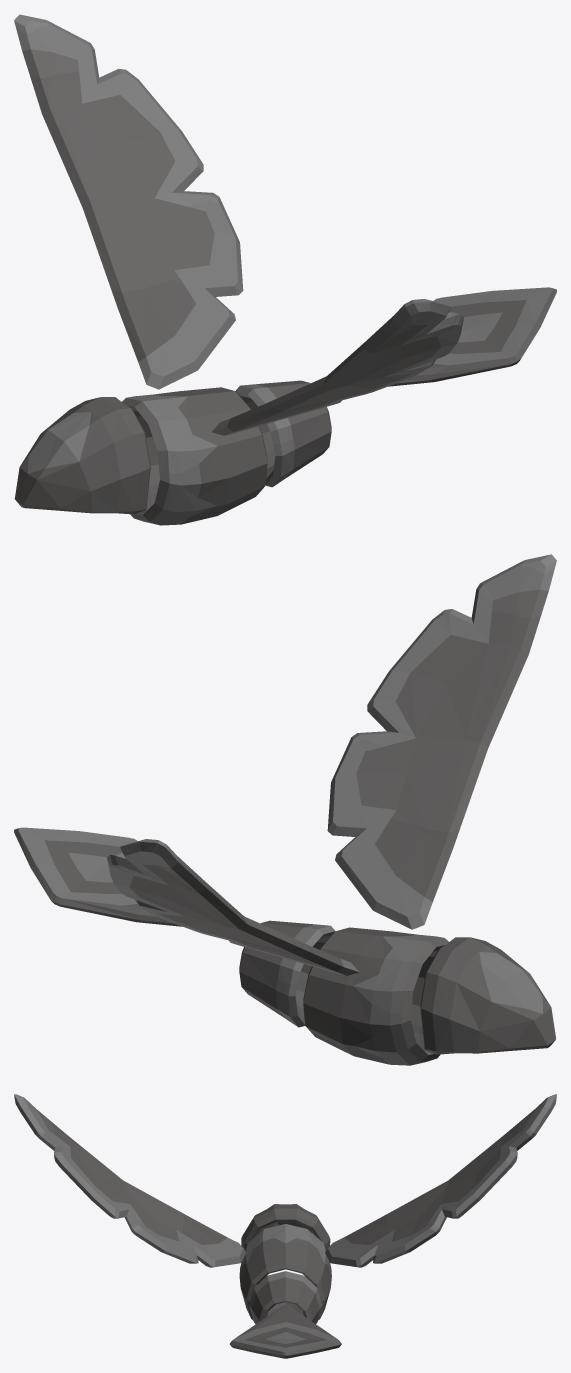
File: CharSkyKid_Prop_ColorKiteBird.glb
3 renders of one model, top to bottom at view 1: azimuth 30°, elevation 25°; view 2: azimuth 150°, elevation 25°; view 3: azimuth 270°, elevation 25°, orthographic. The views are drawn at different scales.
Visible parts, largest first — view 1: CharSkyKid_Prop_ColorKiteBird; view 2: CharSkyKid_Prop_ColorKiteBird; view 3: CharSkyKid_Prop_ColorKiteBird.
Boxes of the visible parts, x1=… form: CharSkyKid_Prop_ColorKiteBird: x1=14, y1=14, x2=556, y2=525; CharSkyKid_Prop_ColorKiteBird: x1=14, y1=554, x2=556, y2=1065; CharSkyKid_Prop_ColorKiteBird: x1=14, y1=1094, x2=556, y2=1358.
Bounding box in the file's own units: 6.09 × 3.78 × 7.73.
Materials: 1 (1 with a texture image).
